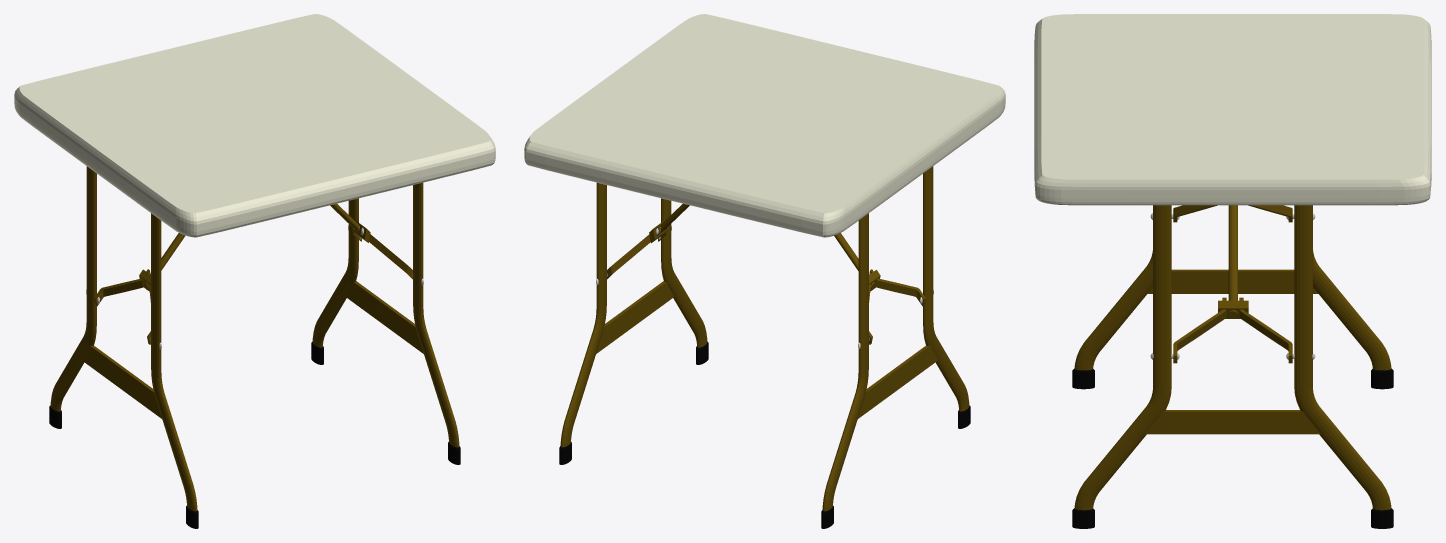
Rendered from sh-kl-folding-table.glb.
3 renders of one model, left to right at view 1: azimuth 30°, elevation 25°; view 2: azimuth 150°, elevation 25°; view 3: azimuth 270°, elevation 25°, orthographic. The views are drawn at different scales.
Parts seen in each view (by area): view 1: table_top_table_top_plastic_table, table_legs_table_legs_table_legs, table_legs_table_legs_RUBBER_generic; view 2: table_top_table_top_plastic_table, table_legs_table_legs_table_legs, table_legs_table_legs_RUBBER_generic; view 3: table_top_table_top_plastic_table, table_legs_table_legs_table_legs, table_legs_table_legs_RUBBER_generic.
Part boxes in pixels (left/top/right/bottom): table_top_table_top_plastic_table: left=14, top=14, right=495, bottom=237; table_legs_table_legs_table_legs: left=50, top=166, right=459, bottom=511; table_legs_table_legs_RUBBER_generic: left=49, top=341, right=460, bottom=528; table_top_table_top_plastic_table: left=524, top=14, right=1005, bottom=237; table_legs_table_legs_table_legs: left=560, top=166, right=969, bottom=511; table_legs_table_legs_RUBBER_generic: left=559, top=341, right=970, bottom=528; table_top_table_top_plastic_table: left=1034, top=14, right=1431, bottom=205; table_legs_table_legs_table_legs: left=1074, top=205, right=1391, bottom=510; table_legs_table_legs_RUBBER_generic: left=1072, top=368, right=1393, bottom=528.
Bounding box in the file's own units: 1 × 1 × 1.
